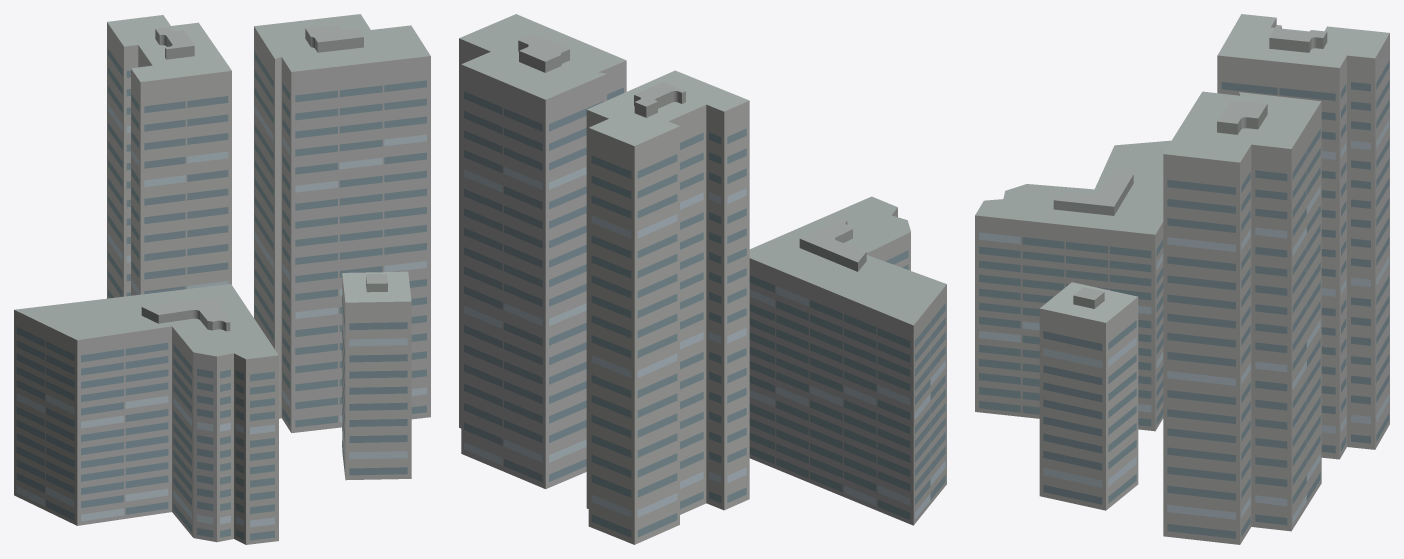
File: apt-a10025404.glb
The picture shows the model from 3 angles, left to right: view 1: azimuth 30°, elevation 25°; view 2: azimuth 150°, elevation 25°; view 3: azimuth 270°, elevation 25°; orthographic projection. The views are drawn at different scales.
Visible parts, largest first — view 1: apt-a10025404; view 2: apt-a10025404; view 3: apt-a10025404.
Part boxes in pixels (<box>): apt-a10025404: <box>14,14,430,544</box>; apt-a10025404: <box>459,14,946,544</box>; apt-a10025404: <box>975,14,1389,544</box>.
Bounding box in the file's own units: 99.15 × 88 × 82.22.
